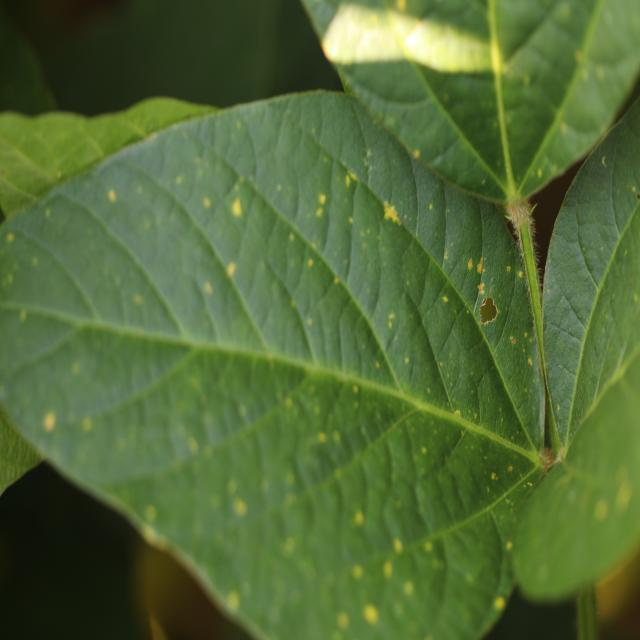Soybean: (0, 0, 640, 640)
downey_mildew: (20, 313, 507, 635), (404, 214, 536, 453), (184, 96, 394, 246), (87, 167, 239, 343), (514, 386, 638, 600), (109, 350, 310, 479), (386, 6, 524, 191), (326, 407, 478, 559), (566, 147, 640, 442), (114, 500, 265, 632), (513, 3, 612, 194), (0, 321, 137, 456), (339, 110, 429, 283), (136, 134, 255, 250), (433, 408, 542, 532), (295, 227, 385, 377), (427, 497, 517, 636), (0, 227, 99, 344), (35, 304, 230, 361), (462, 81, 563, 184), (288, 251, 382, 356), (334, 535, 435, 631), (235, 251, 319, 358), (435, 180, 492, 333), (3, 111, 111, 186), (476, 195, 527, 341), (387, 6, 497, 72), (570, 1, 640, 102), (487, 5, 522, 202), (418, 158, 544, 210), (574, 144, 617, 294), (421, 276, 476, 387), (588, 228, 640, 342), (346, 172, 390, 304), (607, 95, 640, 271), (322, 3, 414, 66), (540, 318, 588, 432), (343, 49, 444, 103), (409, 157, 451, 285), (490, 3, 564, 65), (113, 96, 214, 140), (478, 526, 522, 625), (0, 403, 40, 502), (297, 1, 351, 54), (539, 356, 559, 464), (0, 169, 41, 218), (522, 152, 562, 192), (361, 132, 377, 221), (554, 357, 583, 385), (362, 151, 371, 173)
